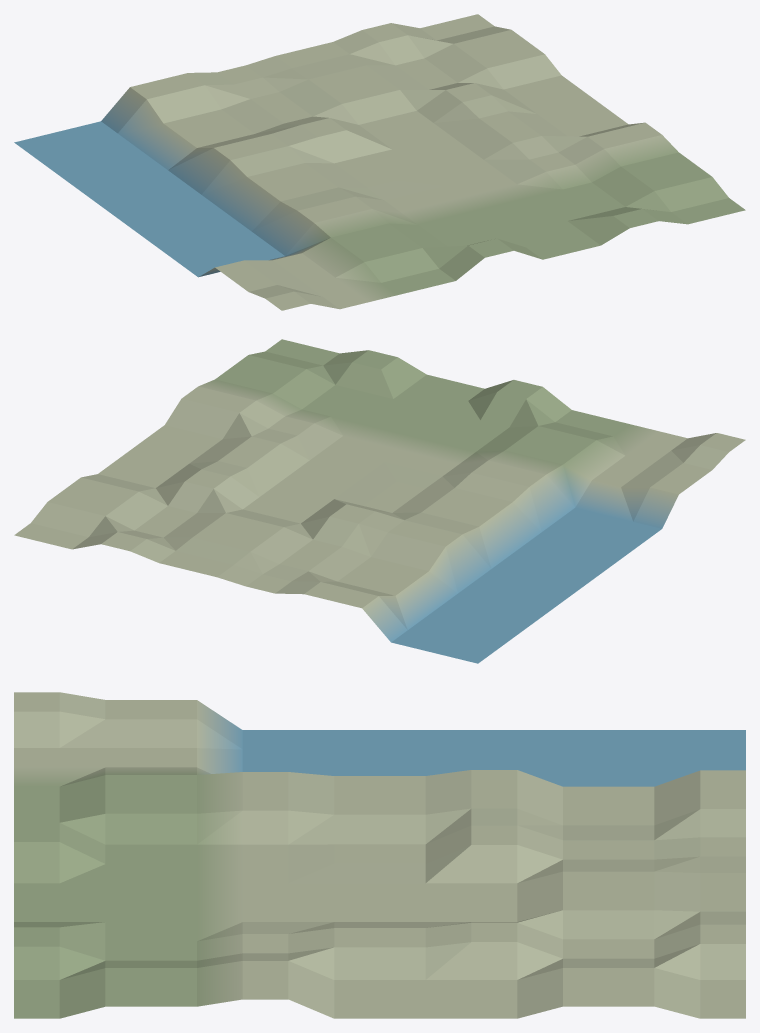
3 renders of one model, top to bottom at view 1: azimuth 30°, elevation 25°; view 2: azimuth 150°, elevation 25°; view 3: azimuth 270°, elevation 25°, orthographic. The views are drawn at different scales.
Size of the model in its own units: 32 by 2.06 by 32.
